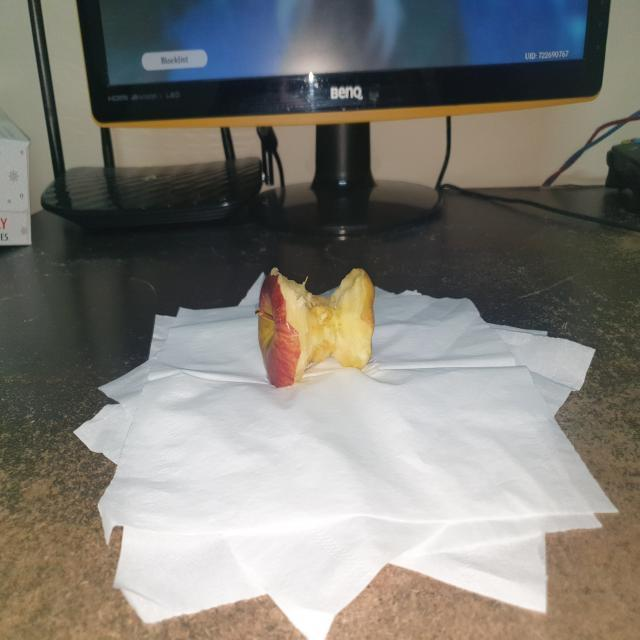apple: (246, 255, 387, 406)
